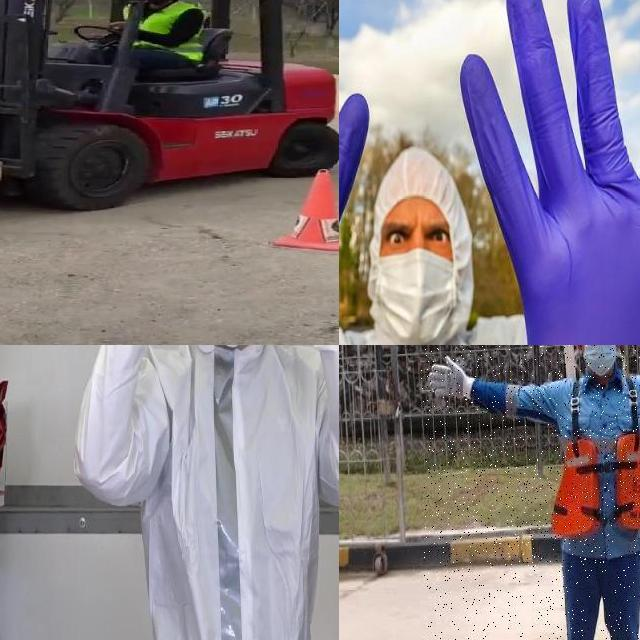GLOVE: (428, 355, 478, 401)
Glove: (427, 0, 640, 345), (339, 0, 406, 345)
MASK: (371, 249, 454, 345)
VEST: (551, 433, 640, 535)
